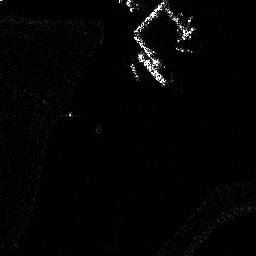ship: (137, 53, 166, 86)
